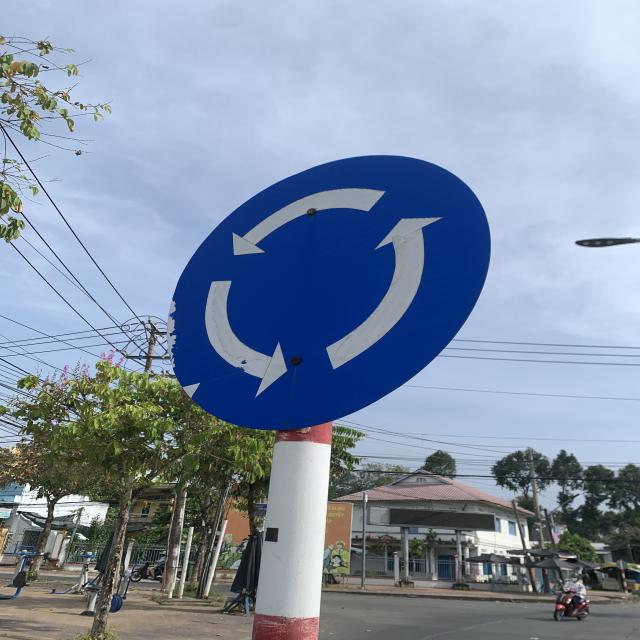Xe_Bus: (167, 152, 492, 432)
